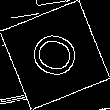O_SE: (23, 25, 87, 85)
